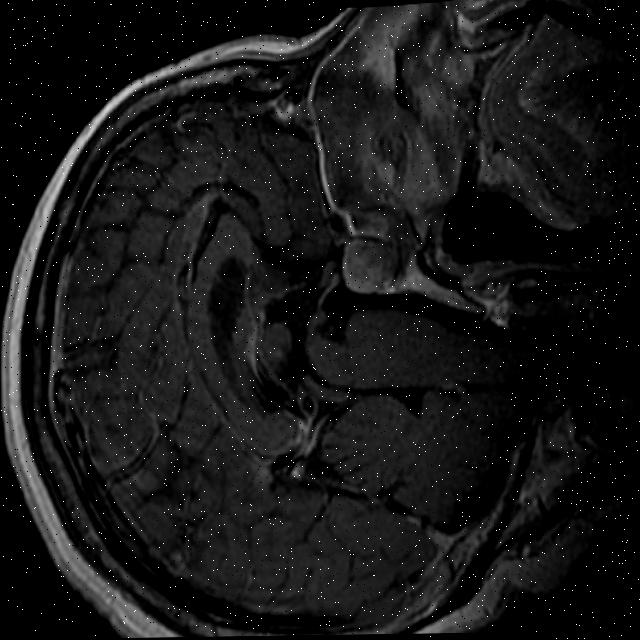Pituitary: (340, 236, 402, 295)
